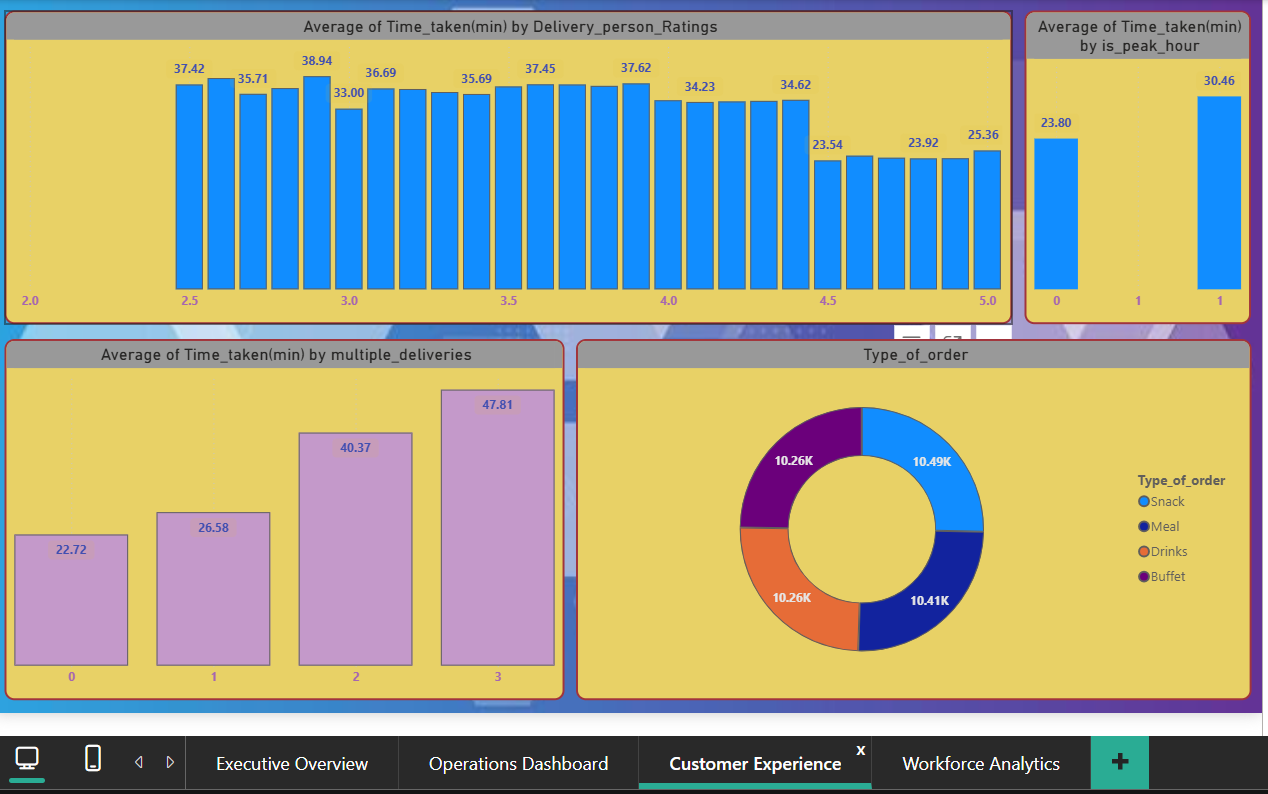

The dashboard page shown, as its layout file describes it:
{"tool":"powerbi","page":{"name":"Customer Experience","canvas":[1280,720],"ordinal":2},"visuals":[{"type":"clusteredColumnChart","fields":{"Category":["food_delivery_cleaned.Delivery_person_Ratings"],"Y":["Avg(food_delivery_cleaned.Time_taken(min))"]},"box":[10.6,10.6,1017.5,316.5],"z":0},{"type":"clusteredColumnChart","fields":{"Category":["food_delivery_cleaned.is_peak_hour"],"Y":["Avg(food_delivery_cleaned.Time_taken(min))"]},"box":[1040.3,10.6,228.6,316.5],"z":1000},{"type":"clusteredColumnChart","fields":{"Category":["food_delivery_cleaned.multiple_deliveries"],"Y":["Avg(food_delivery_cleaned.Time_taken(min))"]},"box":[11.1,342.6,565.3,364.7],"z":2000},{"type":"donutChart","title":"Type_of_order","fields":{"Category":["food_delivery_cleaned.Type_of_order"],"Y":["CountNonNull(food_delivery_cleaned.Type_of_order)"]},"box":[587.4,342.6,682.1,364.7],"z":2001}]}

Visuals, with their boxes on the page's 1280x720 design canvas (x1, y1, x2, y2). These are canvas units, not pixel positions in the 1268x794 screenshot, which may show the page scaled, cropped or inside an application window:
clusteredColumnChart - food_delivery_cleaned.Delivery_person_Ratings x Avg(food_delivery_cleaned.Time_taken(min)): pyautogui.locateOnScreen(11, 11, 1028, 327)
clusteredColumnChart - food_delivery_cleaned.is_peak_hour x Avg(food_delivery_cleaned.Time_taken(min)): pyautogui.locateOnScreen(1040, 11, 1269, 327)
clusteredColumnChart - food_delivery_cleaned.multiple_deliveries x Avg(food_delivery_cleaned.Time_taken(min)): pyautogui.locateOnScreen(11, 343, 576, 707)
"Type_of_order" donutChart: pyautogui.locateOnScreen(587, 343, 1270, 707)
